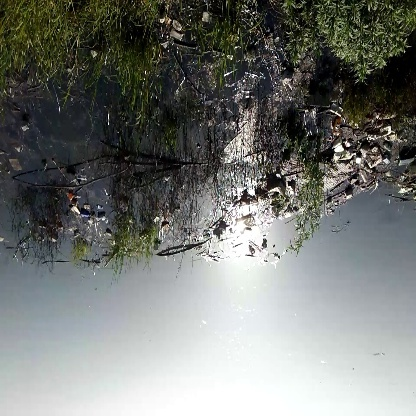branch: (16, 164, 134, 191), (156, 238, 208, 261)
grass: (9, 5, 78, 70)
